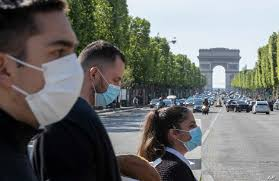with_mask: (1, 8, 84, 131), (87, 51, 124, 111), (170, 109, 203, 156)
